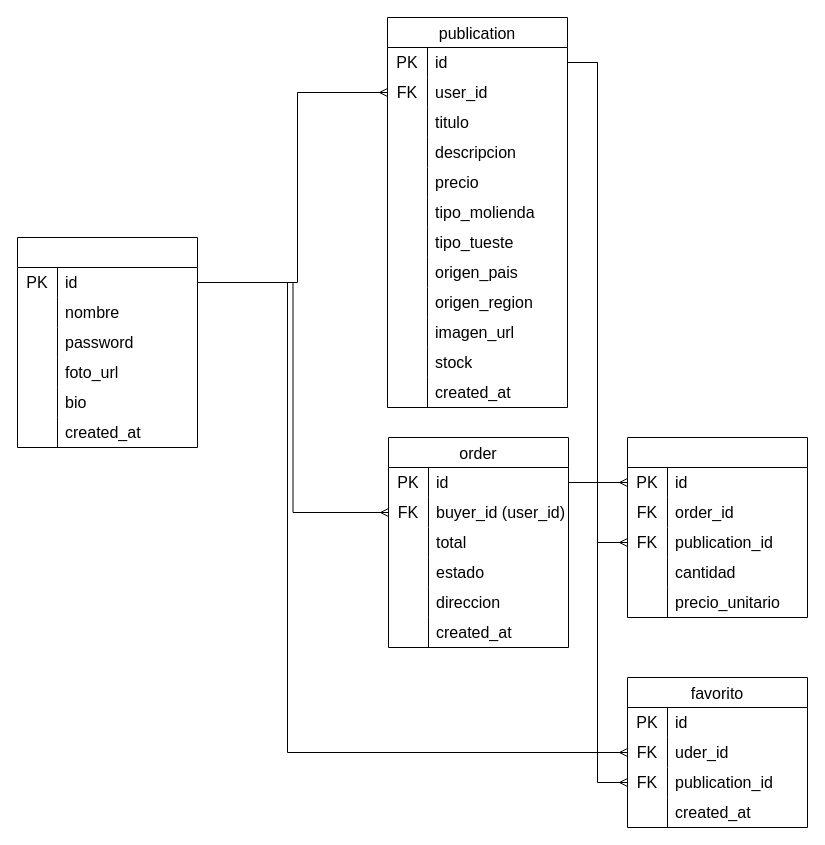
Image size: 825x845. Some labels were removed from this diagram. The box of each missing label's shape, as (x1, y1, x2, y2) in pixels:
order_item: (626, 436, 808, 618)
user: (16, 236, 198, 448)
